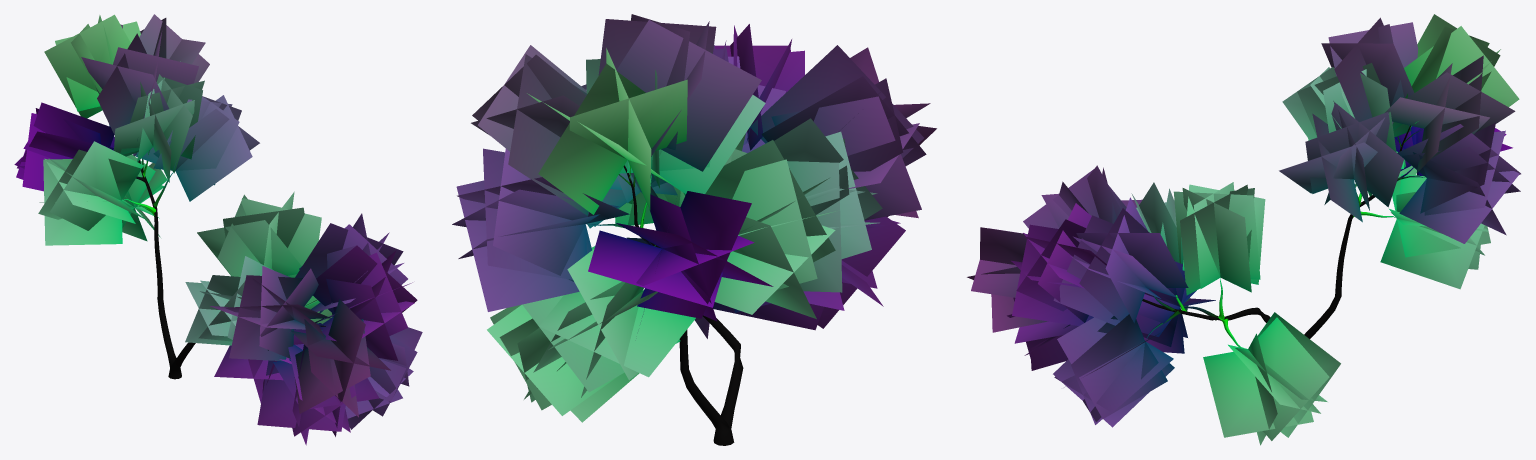
File: M_P6_Tree_6.fbx
The picture shows the model from 3 angles, left to right: view 1: azimuth 30°, elevation 25°; view 2: azimuth 150°, elevation 25°; view 3: azimuth 270°, elevation 25°; orthographic projection. The views are drawn at different scales.
Parts seen in each view (by area): view 1: Tree_6; view 2: Tree_6; view 3: Tree_6.
Boxes of the visible parts, left/top/right/bottom form: Tree_6: left=14, top=14, right=422, bottom=445; Tree_6: left=452, top=14, right=936, bottom=445; Tree_6: left=967, top=14, right=1520, bottom=445.
Size of the model in its own units: 569 by 698 by 957.
